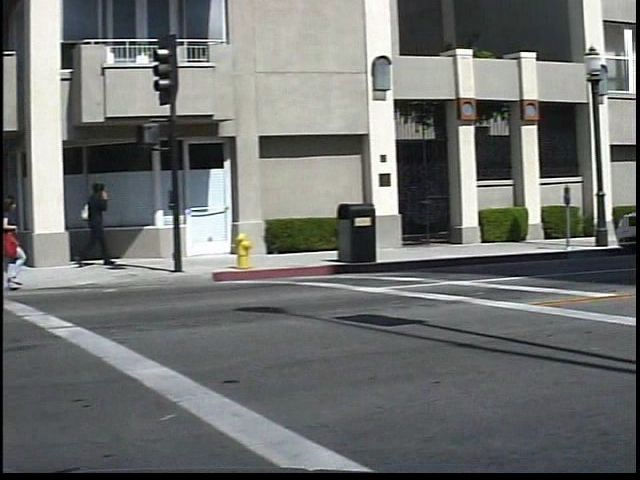person: (85, 175, 131, 268), (2, 185, 41, 293)
